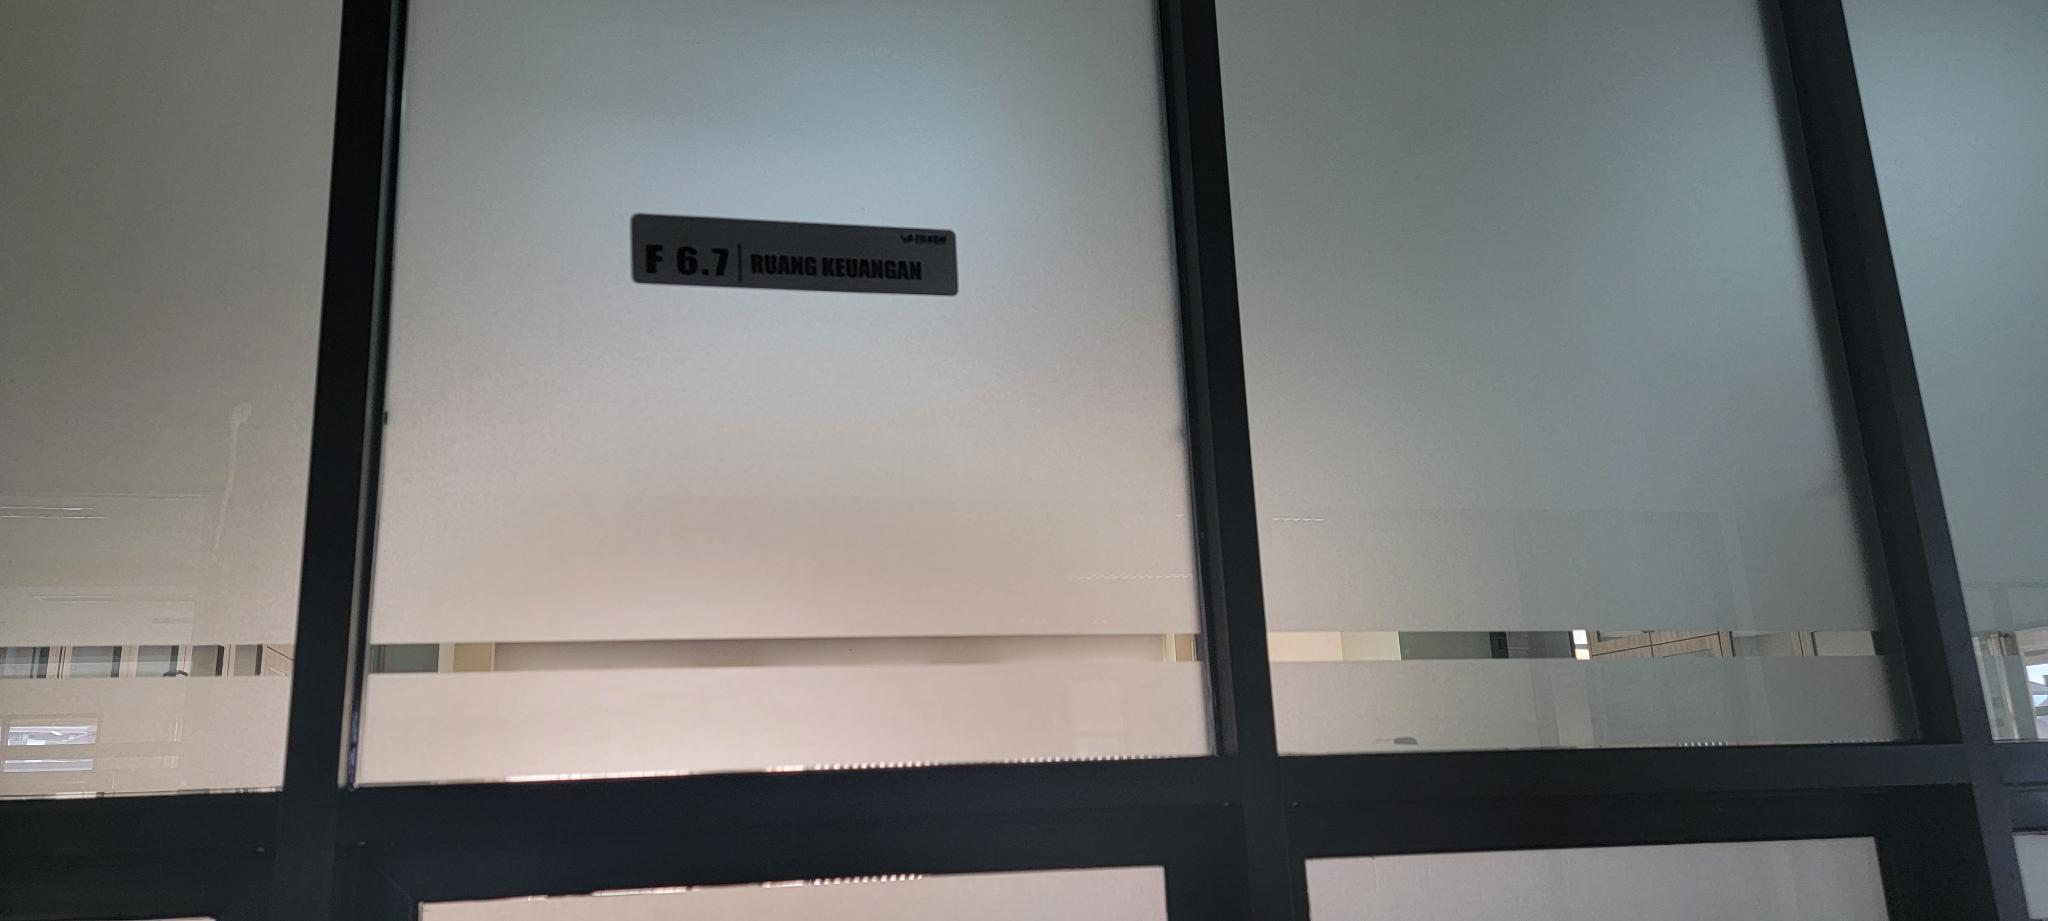plate: (630, 213, 959, 298)
